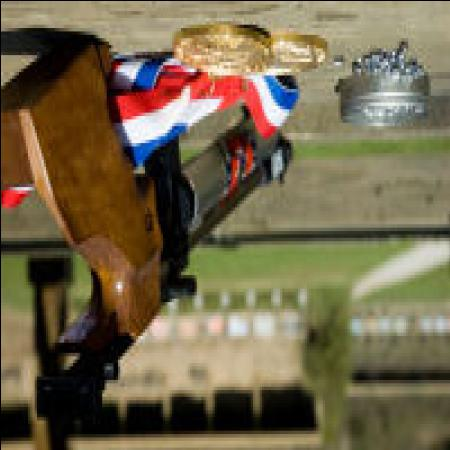Pistol: (23, 40, 297, 426)
